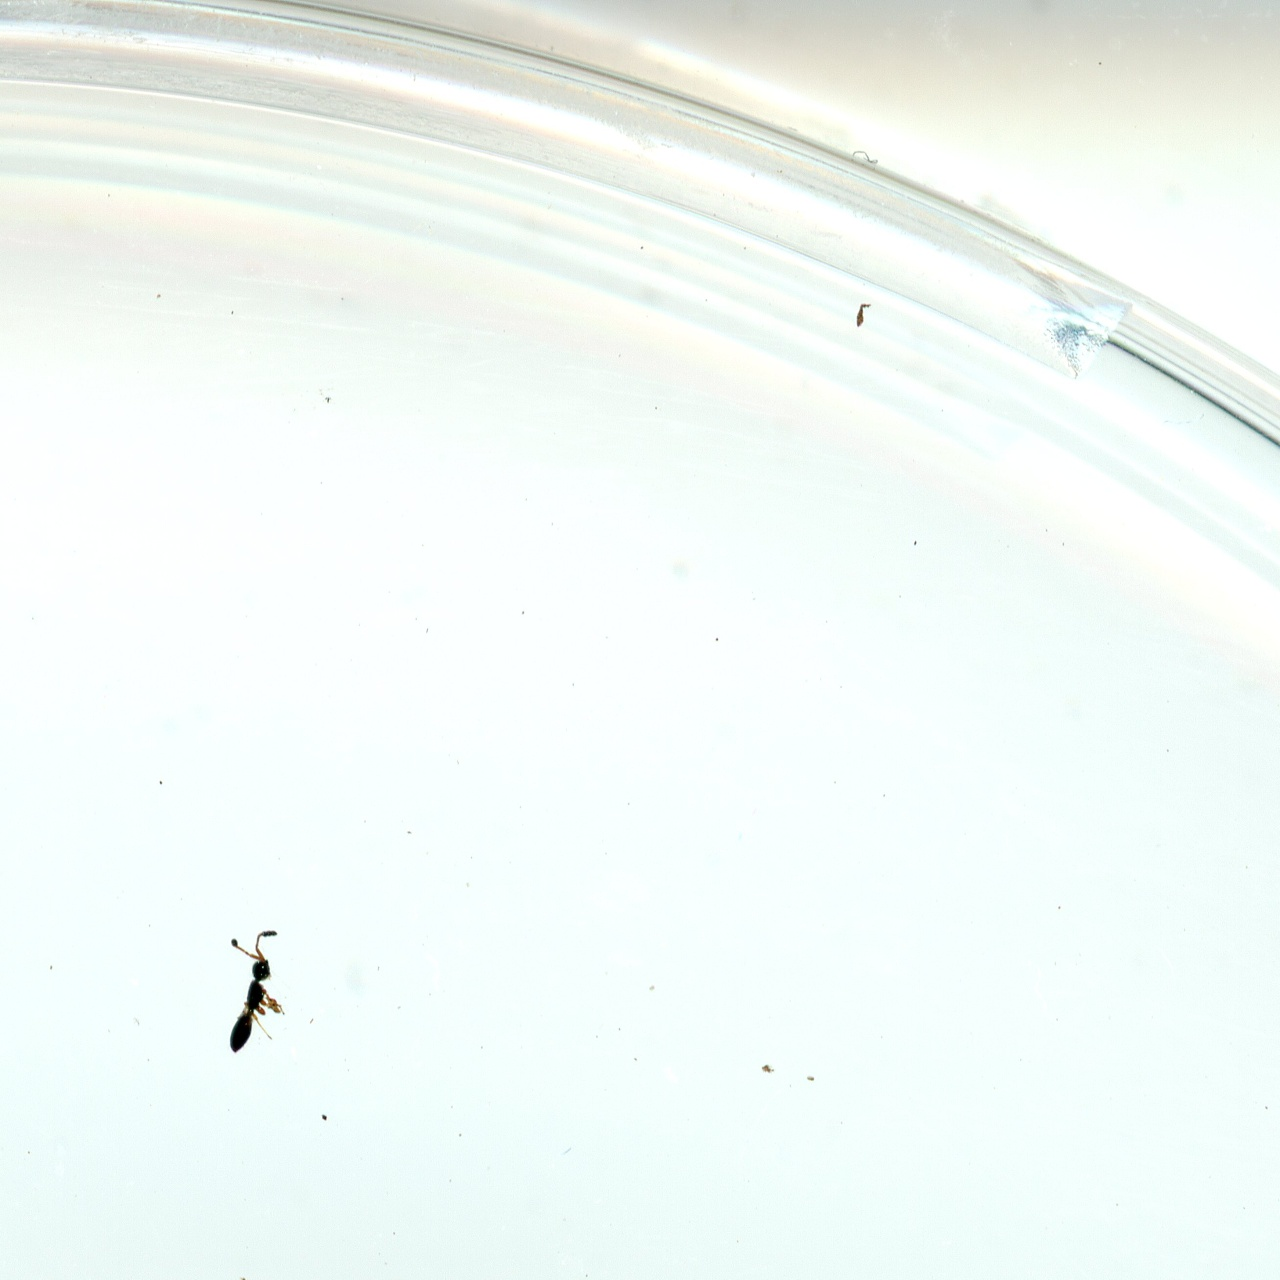arthropod: (220, 922, 294, 1063)
